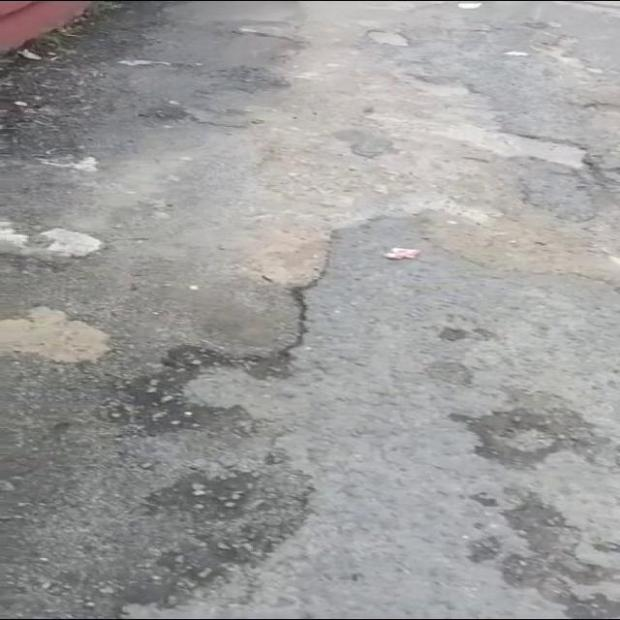lubang: (66, 3, 584, 299), (35, 347, 306, 616), (469, 492, 619, 616), (452, 394, 619, 466)
